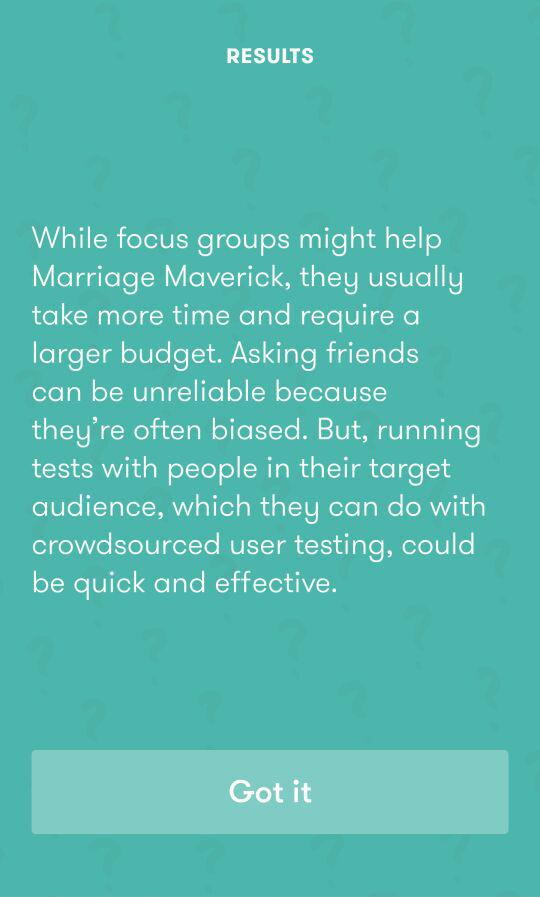Text: (31, 224, 487, 602), (226, 47, 315, 66)
TextButton: (32, 749, 510, 835)
